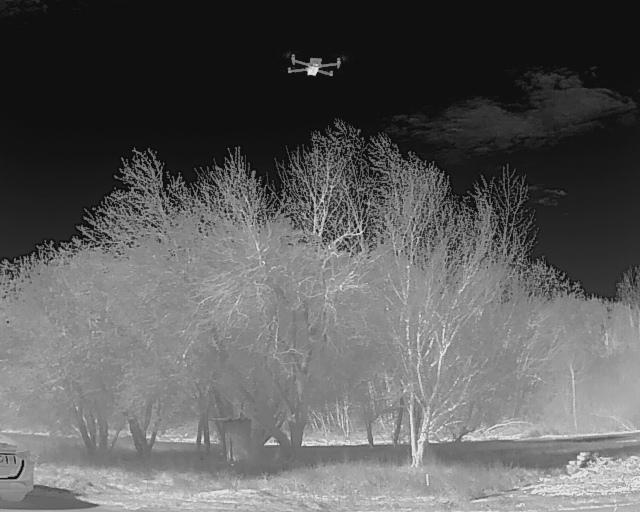drone: (277, 45, 347, 86)
